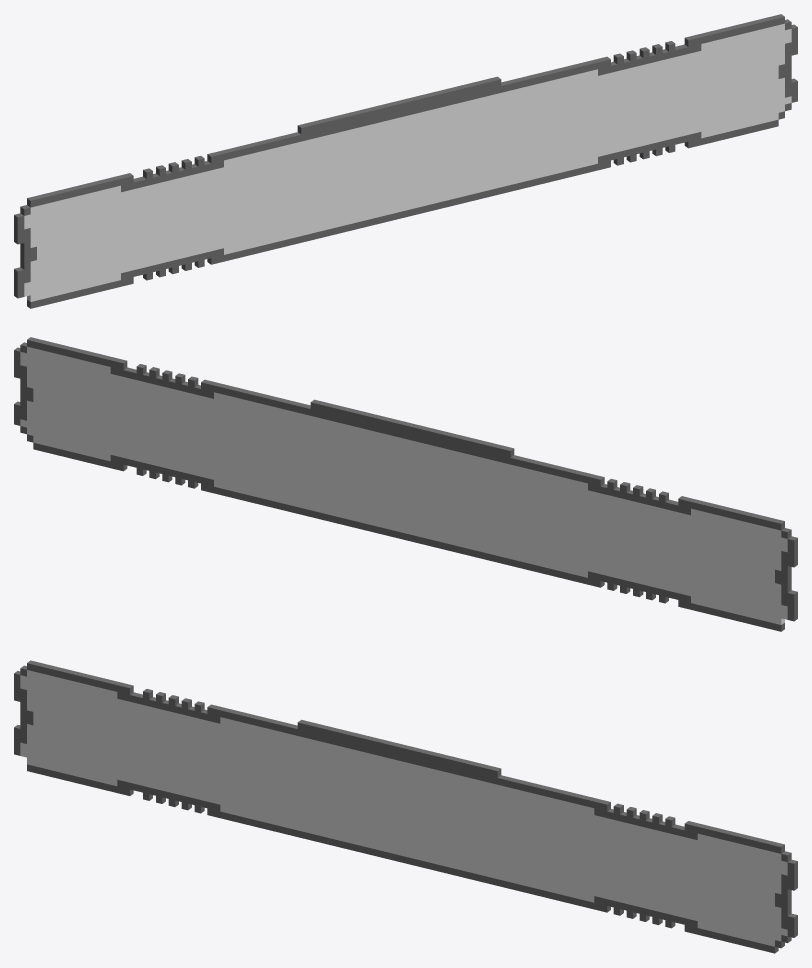
File: 对话框小.FBX
The picture shows the model from 3 angles, top to bottom: view 1: azimuth 30°, elevation 25°; view 2: azimuth 150°, elevation 25°; view 3: azimuth 330°, elevation 25°; orthographic projection.
Visible parts, largest first — view 1: 框小; view 2: 框小; view 3: 框小.
Boxes of the visible parts, x1,y1,x2,y2 form: 框小: (14, 14, 797, 308); 框小: (14, 337, 797, 631); 框小: (14, 660, 797, 953).
Bounding box in the file's own units: 121 × 17 × 1.
